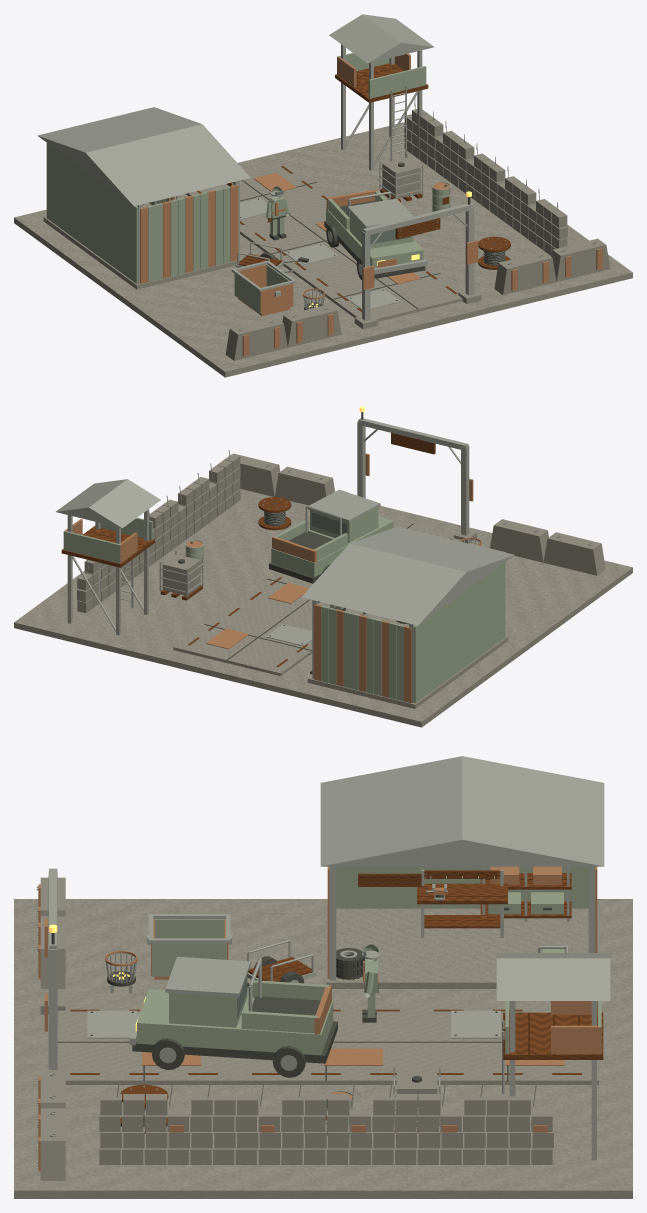
File: reclamation-yard-starter-scene__239.glb
3 views of the same model, one above another, from view 1: azimuth 30°, elevation 25°; view 2: azimuth 150°, elevation 25°; view 3: azimuth 270°, elevation 25° (orthographic). The views are drawn at different scales.
Visible parts, largest first — view 1: terrain-base, 04-reclamation-yard-salvage-shed/metal, 04-reclamation-yard-salvage-shed/shell, 05-reclamation-yard-lookout-platform/metal, 03-reclamation-yard-patched-road/stone, 01-reclamation-yard-patched-road/stone, 04-reclamation-yard-salvage-shed/accent, 02-reclamation-yard-patched-road/stone, 07-reclamation-yard-salvage-truck/shell, 06-reclamation-yard-compound-gate/metal, 07-reclamation-yard-salvage-truck/metal, 28-reclamation-yard-broken-wall/stone (+24 smaller); view 2: terrain-base, 04-reclamation-yard-salvage-shed/metal, 04-reclamation-yard-salvage-shed/shell, 01-reclamation-yard-patched-road/stone, 05-reclamation-yard-lookout-platform/metal, 04-reclamation-yard-salvage-shed/accent, 07-reclamation-yard-salvage-truck/shell, 06-reclamation-yard-compound-gate/metal, 20-reclamation-yard-road-barricade/stone, 02-reclamation-yard-patched-road/stone, 21-reclamation-yard-road-barricade/stone, 22-reclamation-yard-road-barricade/stone (+21 smaller); view 3: terrain-base, 04-reclamation-yard-salvage-shed/metal, 04-reclamation-yard-salvage-shed/stone, 07-reclamation-yard-salvage-truck/shell, 01-reclamation-yard-patched-road/stone, 02-reclamation-yard-patched-road/stone, 05-reclamation-yard-lookout-platform/metal, 03-reclamation-yard-patched-road/stone, 25-reclamation-yard-broken-wall/stone, 28-reclamation-yard-broken-wall/stone, 26-reclamation-yard-broken-wall/stone, 27-reclamation-yard-broken-wall/stone (+25 smaller).
Boxes of the visible parts, x1,y1,x2,y2 form: terrain-base: (14, 122, 632, 377); 04-reclamation-yard-salvage-shed/metal: (37, 107, 250, 283); 04-reclamation-yard-salvage-shed/shell: (46, 143, 230, 283); 05-reclamation-yard-lookout-platform/metal: (329, 14, 434, 170); 03-reclamation-yard-patched-road/stone: (302, 264, 464, 321); 01-reclamation-yard-patched-road/stone: (186, 160, 334, 233); 04-reclamation-yard-salvage-shed/accent: (140, 185, 238, 283); 02-reclamation-yard-patched-road/stone: (240, 210, 356, 279); 07-reclamation-yard-salvage-truck/shell: (326, 191, 423, 267); 06-reclamation-yard-compound-gate/metal: (362, 203, 474, 320); 07-reclamation-yard-salvage-truck/metal: (328, 191, 427, 275); 28-reclamation-yard-broken-wall/stone: (528, 199, 567, 255); terrain-base: (14, 489, 632, 727); 04-reclamation-yard-salvage-shed/metal: (301, 526, 514, 702); 04-reclamation-yard-salvage-shed/shell: (321, 562, 505, 703); 01-reclamation-yard-patched-road/stone: (173, 602, 312, 675); 05-reclamation-yard-lookout-platform/metal: (56, 479, 160, 635); 04-reclamation-yard-salvage-shed/accent: (314, 604, 411, 703); 07-reclamation-yard-salvage-truck/shell: (271, 507, 393, 577); 06-reclamation-yard-compound-gate/metal: (357, 418, 469, 535); 20-reclamation-yard-road-barricade/stone: (543, 532, 605, 575); 02-reclamation-yard-patched-road/stone: (236, 571, 366, 620); 21-reclamation-yard-road-barricade/stone: (490, 519, 548, 562); 22-reclamation-yard-road-barricade/stone: (275, 466, 334, 505); terrain-base: (14, 899, 632, 1198); 04-reclamation-yard-salvage-shed/metal: (320, 756, 604, 980); 04-reclamation-yard-salvage-shed/stone: (326, 905, 598, 988); 07-reclamation-yard-salvage-truck/shell: (137, 980, 333, 1055); 01-reclamation-yard-patched-road/stone: (417, 1004, 598, 1084); 02-reclamation-yard-patched-road/stone: (235, 1004, 416, 1084); 05-reclamation-yard-lookout-platform/metal: (496, 953, 610, 1160); 03-reclamation-yard-patched-road/stone: (57, 1004, 234, 1084); 25-reclamation-yard-broken-wall/stone: (372, 1094, 462, 1164); 28-reclamation-yard-broken-wall/stone: (99, 1094, 189, 1164); 26-reclamation-yard-broken-wall/stone: (281, 1094, 371, 1164); 27-reclamation-yard-broken-wall/stone: (190, 1094, 280, 1164).
Bounding box in the file's own units: 15.18 × 4.67 × 13.61.
Materials: 8 (2 with a texture image).
